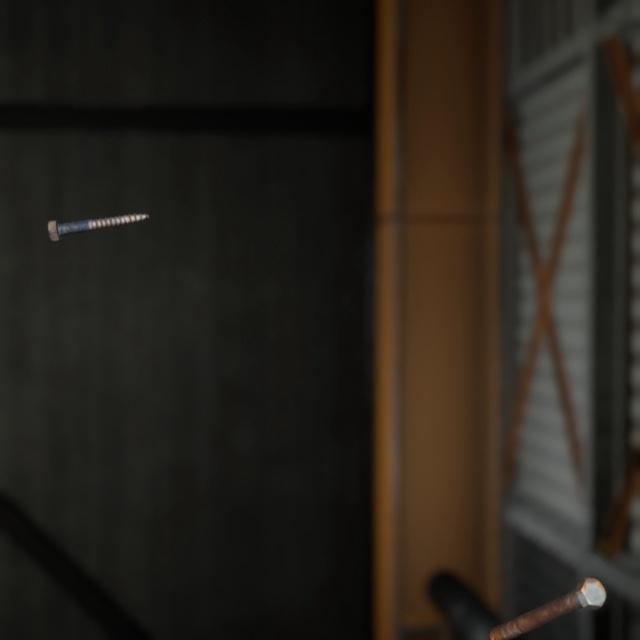bolt: (484, 548, 611, 626), (43, 193, 154, 231)
